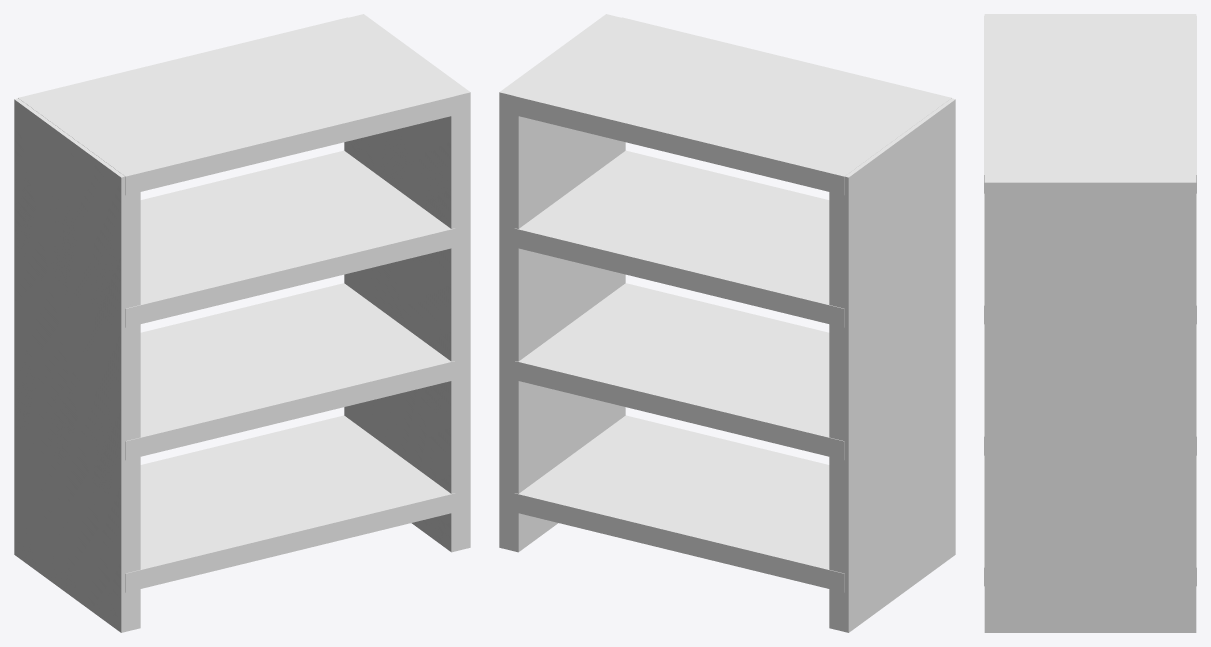
Rendered from Estanteria.fbx.
3 renders of one model, left to right at view 1: azimuth 30°, elevation 25°; view 2: azimuth 150°, elevation 25°; view 3: azimuth 270°, elevation 25°, orthographic.
Visible parts, largest first — view 1: Plane; view 2: Plane; view 3: Plane.
Boxes of the visible parts, left/top/right/bottom form: Plane: left=14, top=14, right=470, bottom=632; Plane: left=499, top=14, right=955, bottom=632; Plane: left=984, top=14, right=1196, bottom=632.
Size of the model in its own units: 272 by 339 by 145.
